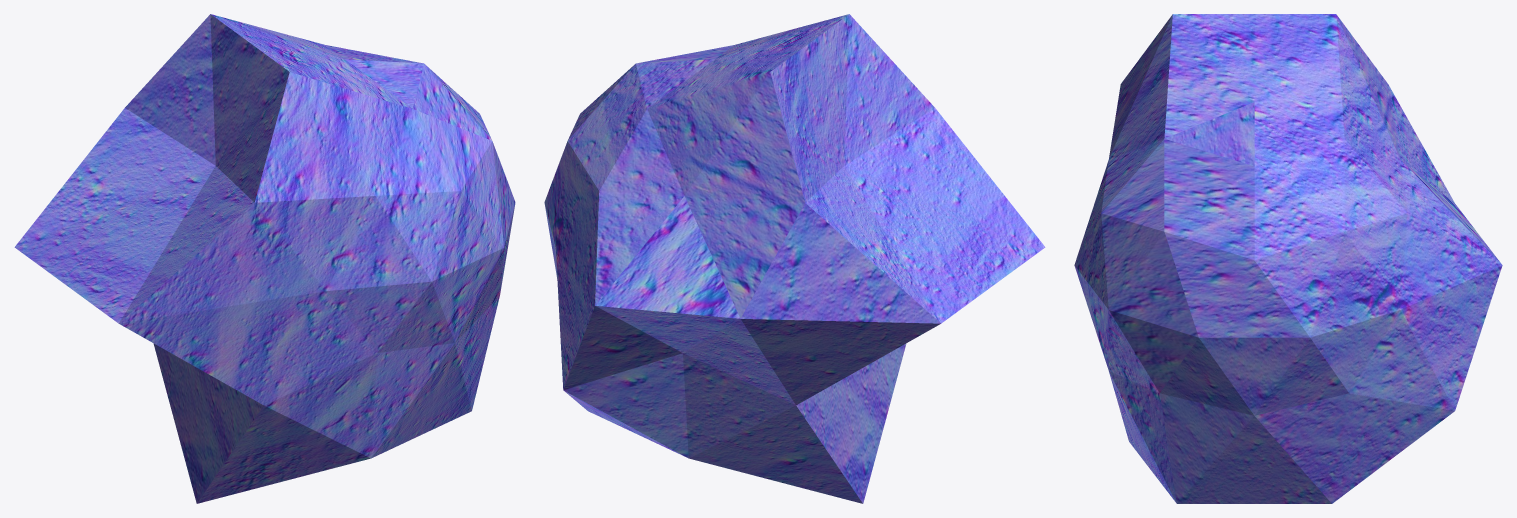
File: mediumasteroid18_LOD4.fbx
3 views of the same model, side by side, from view 1: azimuth 30°, elevation 25°; view 2: azimuth 150°, elevation 25°; view 3: azimuth 270°, elevation 25° (orthographic). The views are drawn at different scales.
Parts seen in each view (by area): view 1: Icosphere; view 2: Icosphere; view 3: Icosphere.
Part boxes in pixels (<box>): Icosphere: <box>14,14,515,503</box>; Icosphere: <box>544,14,1045,503</box>; Icosphere: <box>1074,14,1502,503</box>.
Size of the model in its own units: 279 by 283 by 238.
